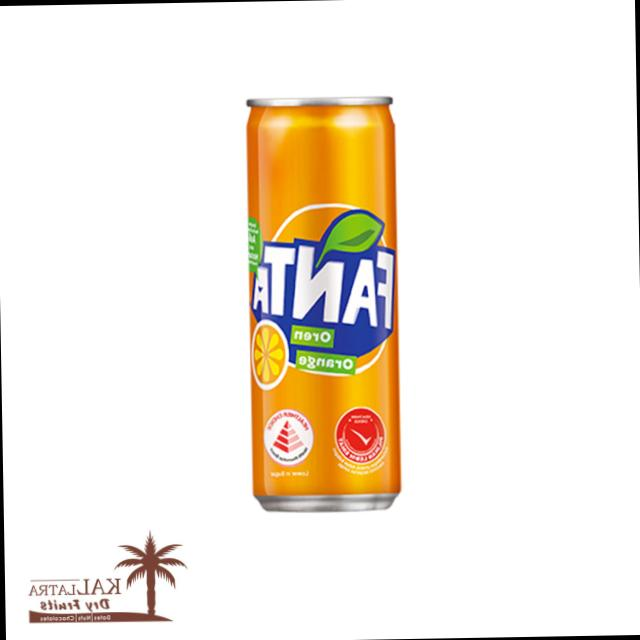fanta: (242, 103, 404, 510)
